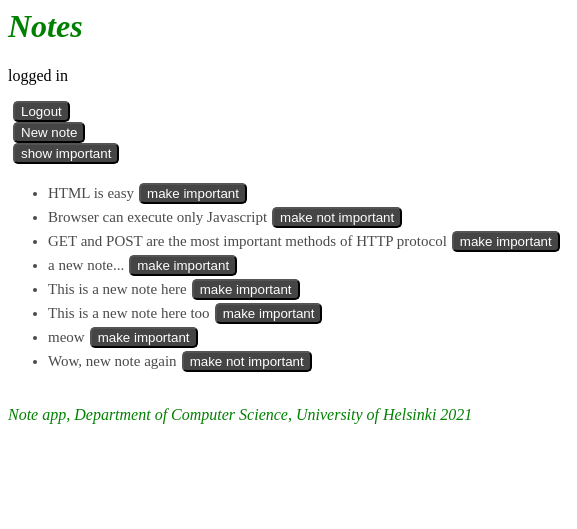
Test case: Note app › when logged in › a new note can be created
Click the button "New note" at (49, 133), box [13,122,85,143]
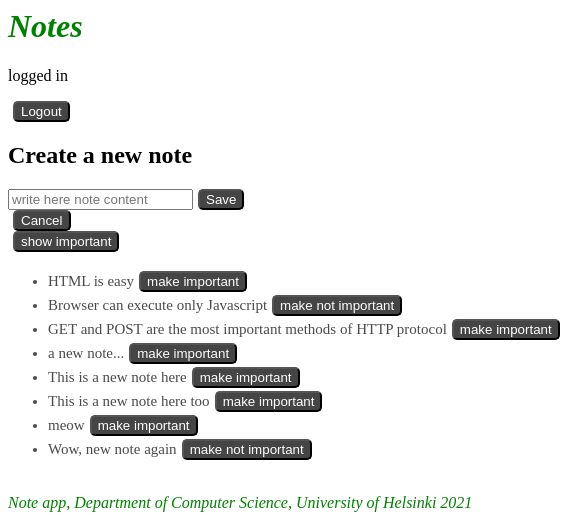
Type "a note created by cypress" into the field with placeholder "write here note content" at (101, 200), box [8,189,193,210]
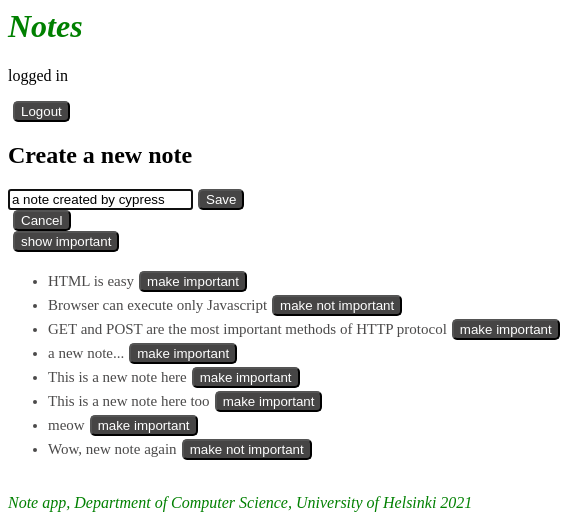
Click the button "Save" at (221, 200), box [198,189,244,210]
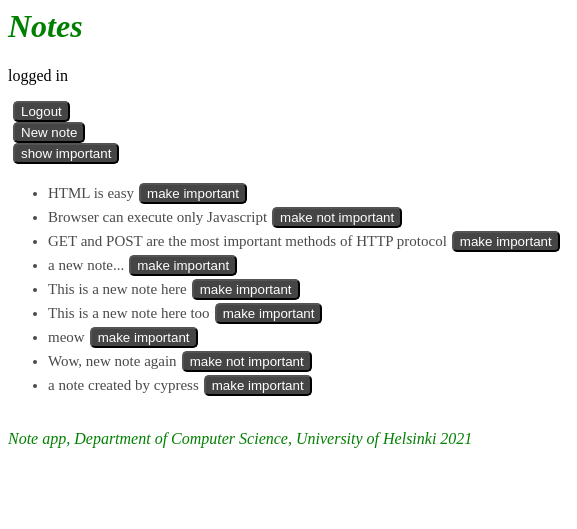
Expected: the text "a note created by cypress" is shown, [48,377,199,393]
